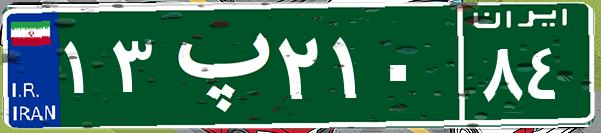0: (385, 28, 445, 110)
1: (330, 28, 385, 110), (57, 26, 110, 107)
2: (273, 28, 330, 110)
3: (110, 28, 158, 105)
4: (525, 38, 570, 115)
8: (475, 38, 525, 113)
پ: (158, 15, 273, 115)
